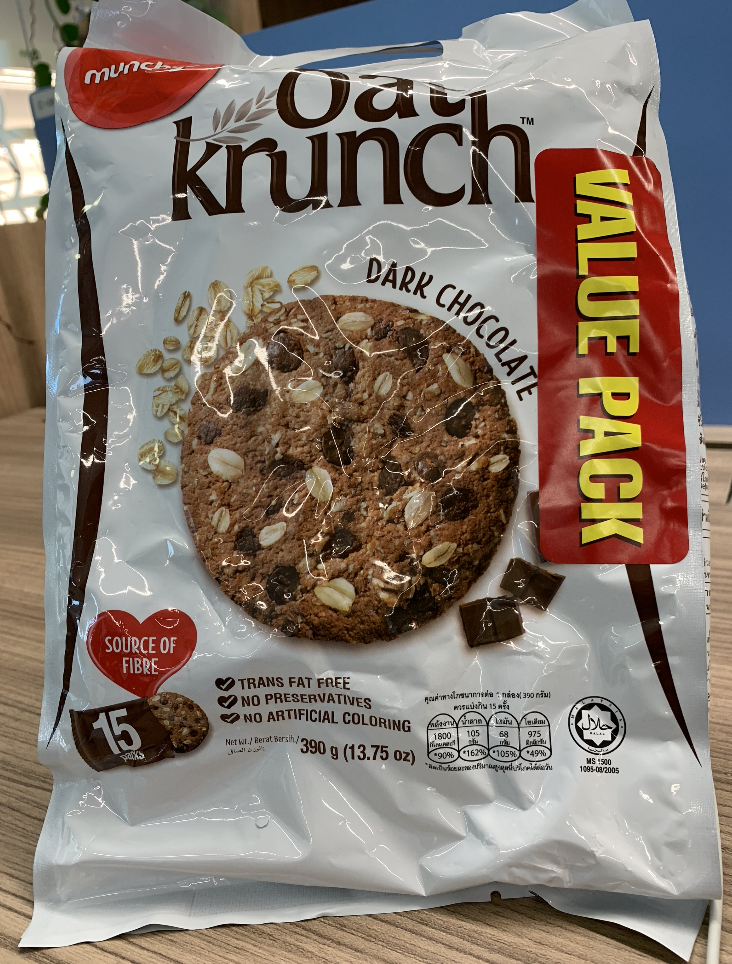cookies_450g: (78, 79, 677, 829)
